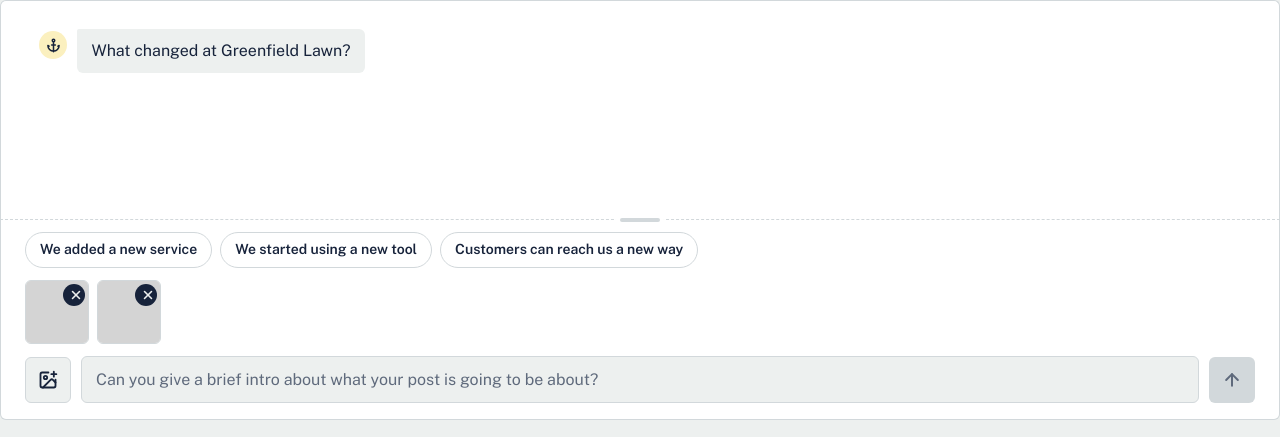
photos in the business chat › uploads each photo as it's added and sends their ids, in order, with the owner's words
This screenshot has width=1280, height=437.
Earlier steps of the test are not shown.
Check: the element showing "What changed at Greenfield Lawn?" is shown, box [39,29,365,73]
Check: the button named "Send" is disabled, box [1209,357,1255,403]
Step 1. Type "Before and after of a patio" into the text box named "Message Anchored" → (640, 379), box [81,356,1199,403]
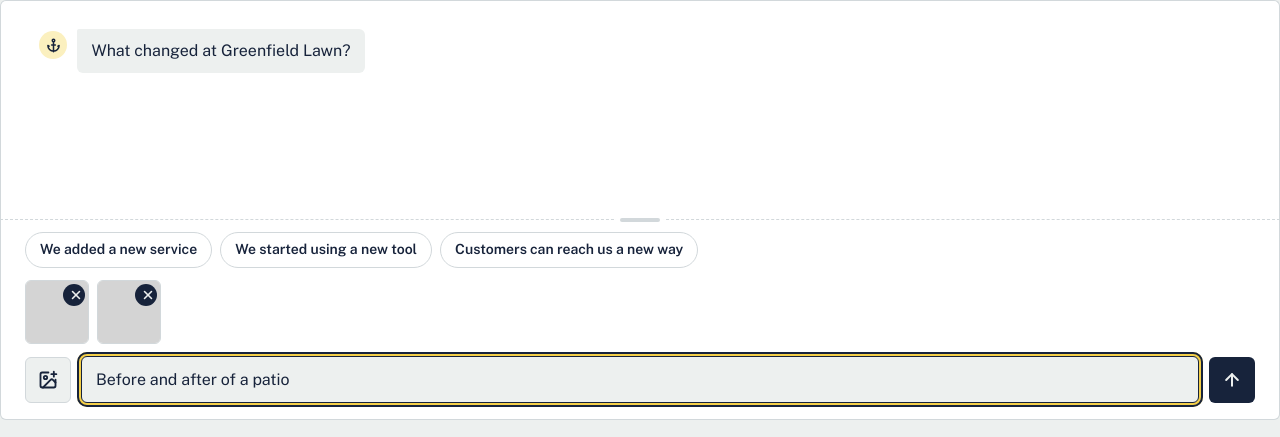
Step 2. Click the button named "Send" → (1232, 380), box [1209,357,1255,403]
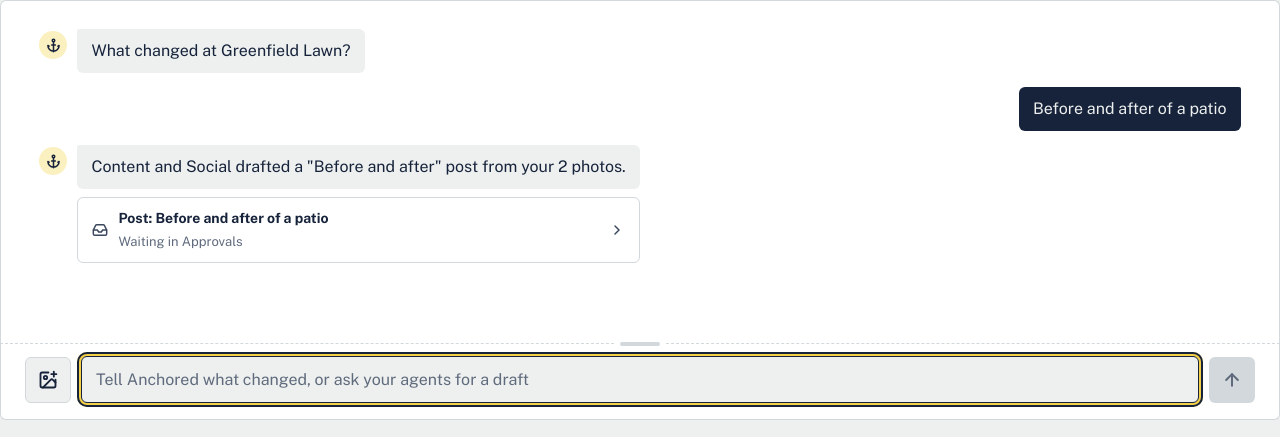
Check: the element that starts with "What changed at Greenfield Lawn?" shows "drafted a \"Before and after\" post", box [91,157,626,176]
Check: the link "Post: Before and after of a patio Waiting in Approvals" is shown, box [77,197,640,263]
